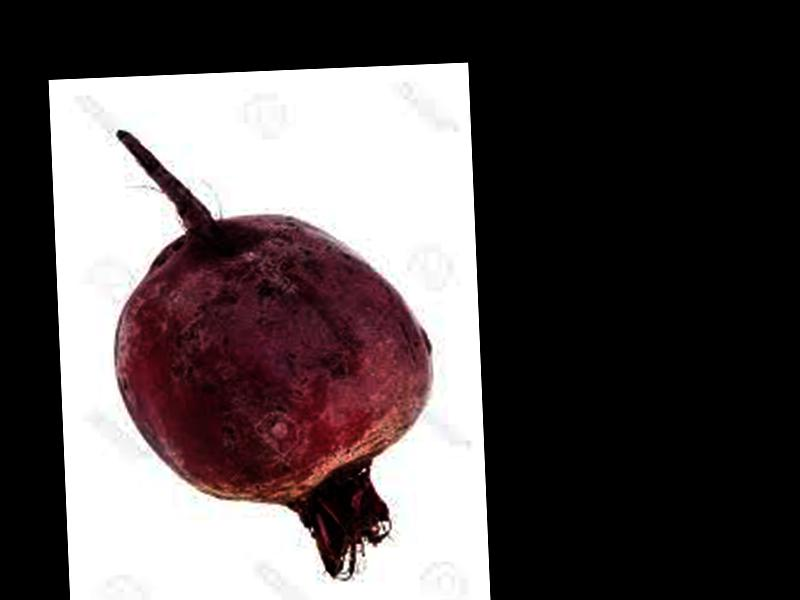Beet: (104, 118, 439, 588)
